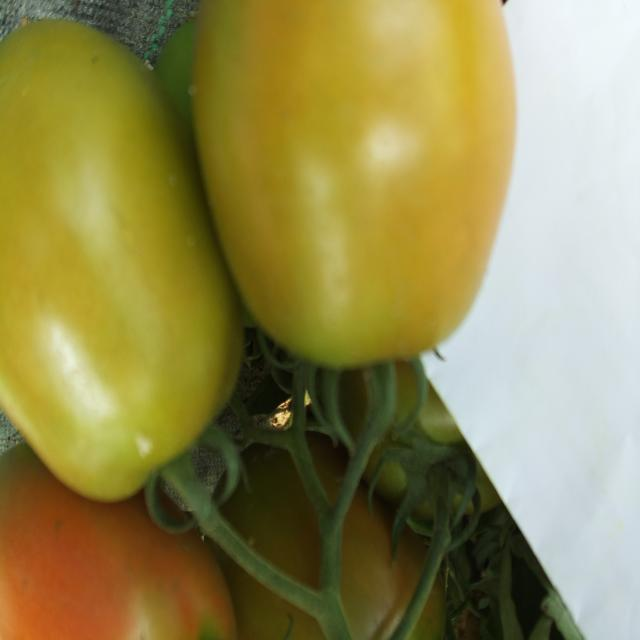yesil: (25, 0, 549, 472)
